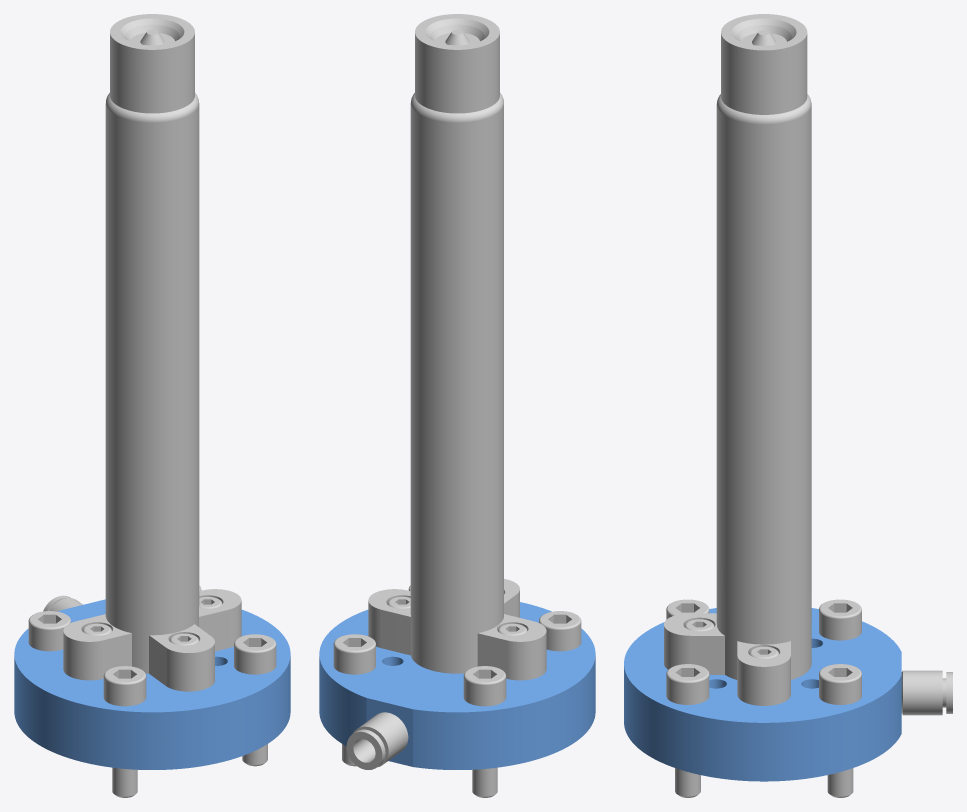
File: EE_SMC_XT661_2A_Universal_Robots_UR3.fbx
3 views of the same model, side by side, from view 1: azimuth 30°, elevation 25°; view 2: azimuth 150°, elevation 25°; view 3: azimuth 270°, elevation 25° (orthographic).
Parts seen in each view (by area): view 1: XT661_2A_R_UR3_001; view 2: XT661_2A_R_UR3_001; view 3: XT661_2A_R_UR3_001.
Part boxes in pixels (bbox=[...]): XT661_2A_R_UR3_001: bbox=[14, 14, 290, 797]; XT661_2A_R_UR3_001: bbox=[319, 14, 595, 797]; XT661_2A_R_UR3_001: bbox=[624, 14, 952, 797].
Bounding box in the file's own units: 6.5 × 18.65 × 7.62.
